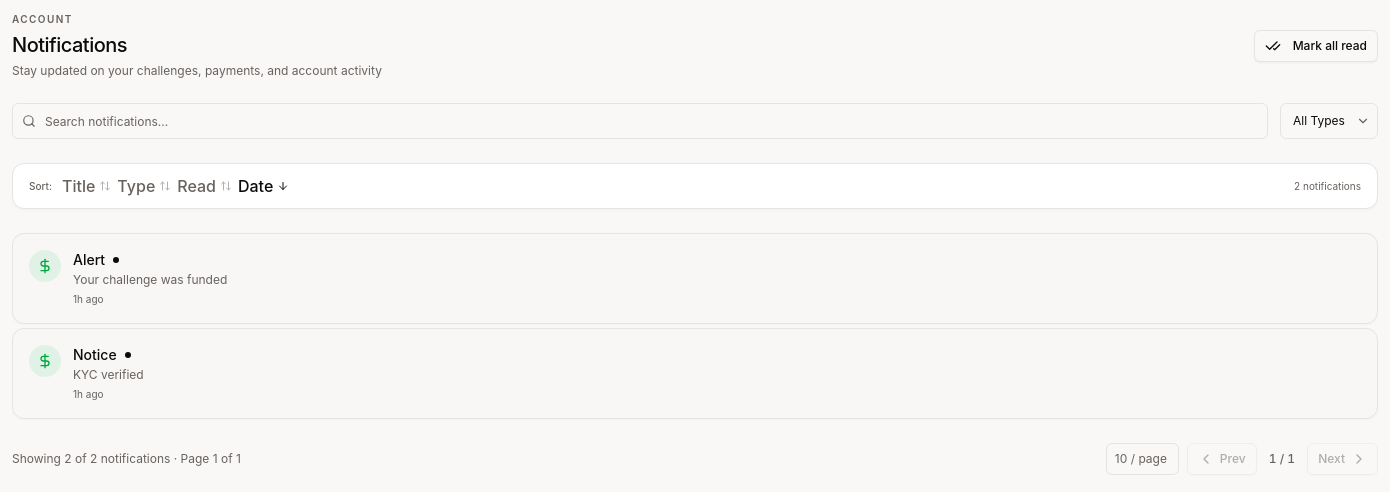
Test: Notifications Page › Search › filters by message
Type "challenge" into the field with placeholder "Search notifications..." at (640, 121), box 12,103 -> 1268,139
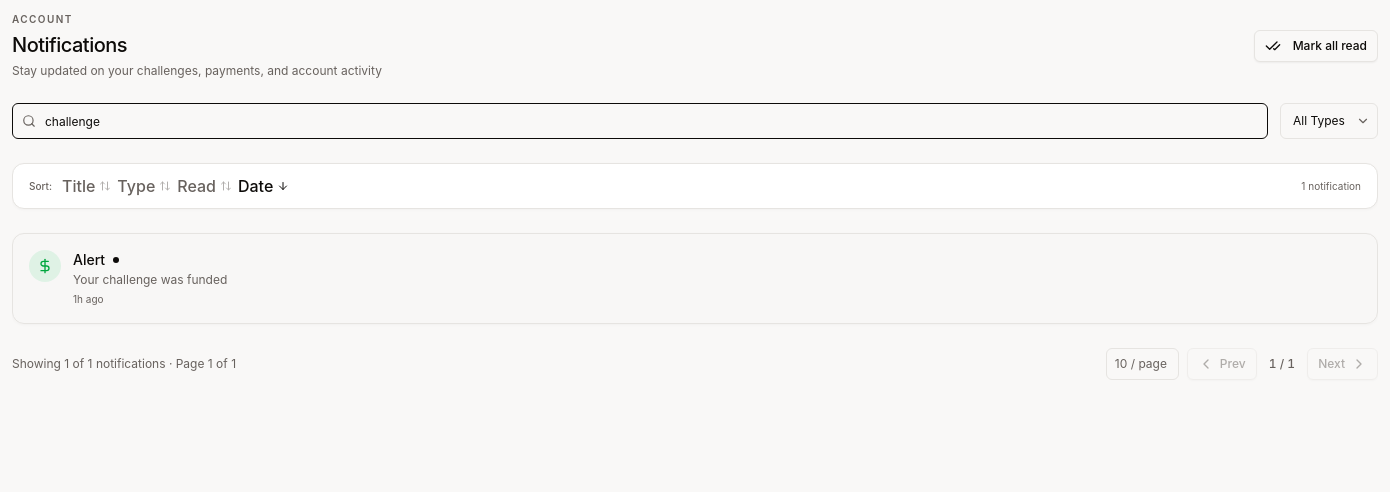
Check: the text "Your challenge was funded" is shown, box 73,272 -> 227,287
Check: the text "KYC verified" is gone
